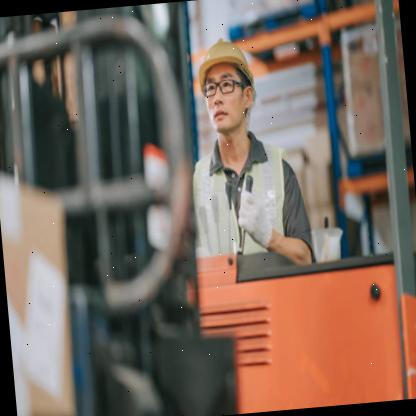capacete: (188, 26, 256, 90)
